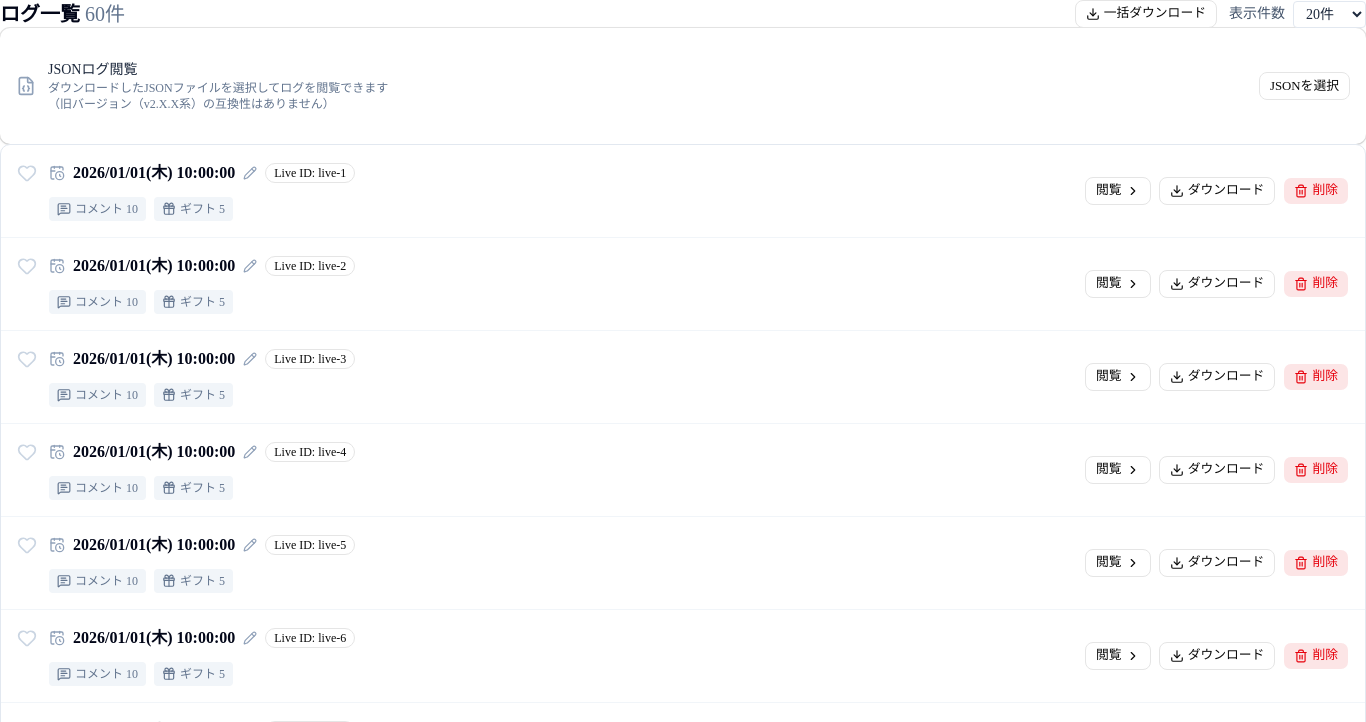
LogListPage › ページネーション - 表示件数変更 › 表示件数を50件に変更すると50件目まで表示する
Select "50件" in the dropdown labelled "表示件数": (1330, 14) [1293, 0, 1365, 28]
(page scrolled)
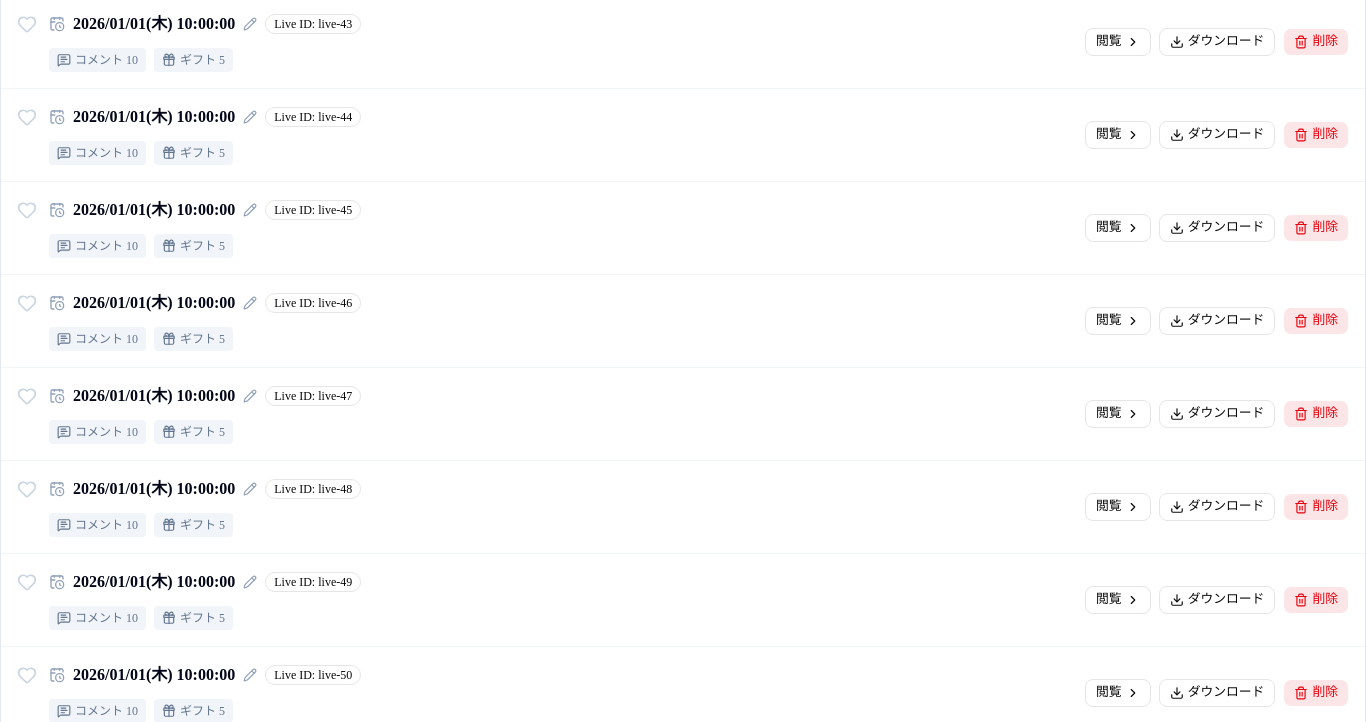
Check: the text "Live ID: live-50" is shown, box [265, 665, 361, 685]
